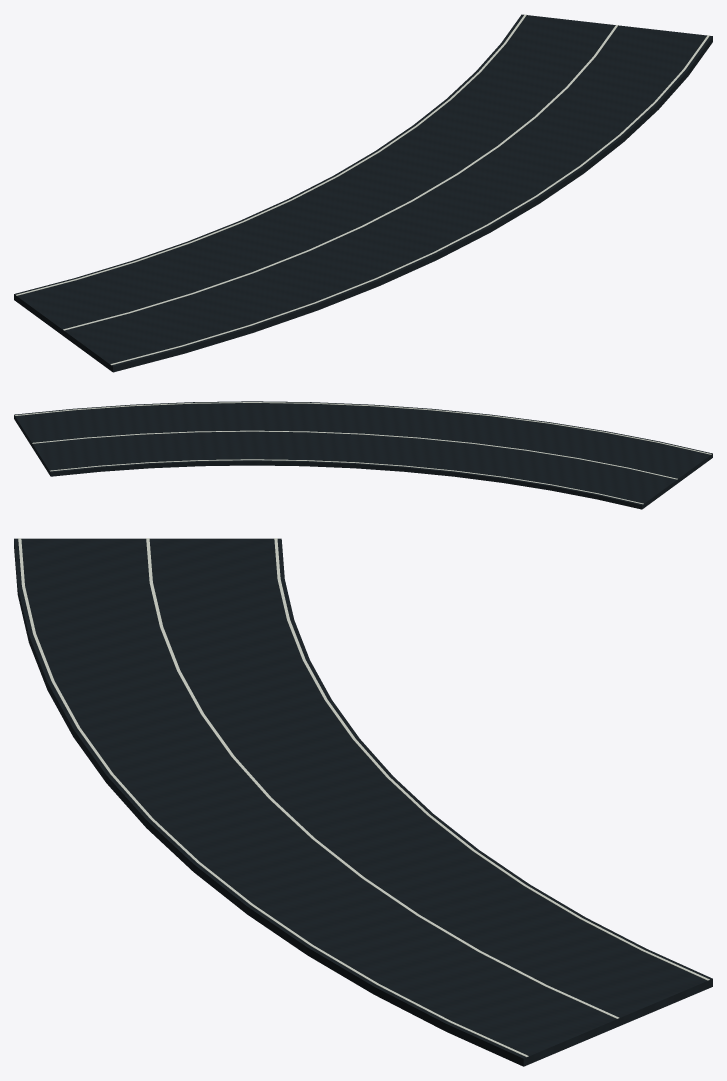
The model's file is Transit_Road_2L_Curve45_R36.glb.
3 renders of one model, top to bottom at view 1: azimuth 30°, elevation 25°; view 2: azimuth 150°, elevation 25°; view 3: azimuth 270°, elevation 25°, orthographic. The views are drawn at different scales.
Parts seen in each view (by area): view 1: Transit_Road_2L_Curve45_R36_Surface, Transit_Road_2L_Curve45_R36_MarkEdge-1, Transit_Road_2L_Curve45_R36_MarkLane1, Transit_Road_2L_Curve45_R36_MarkEdge+1; view 2: Transit_Road_2L_Curve45_R36_Surface, Transit_Road_2L_Curve45_R36_MarkEdge-1, Transit_Road_2L_Curve45_R36_MarkLane1, Transit_Road_2L_Curve45_R36_MarkEdge+1; view 3: Transit_Road_2L_Curve45_R36_Surface, Transit_Road_2L_Curve45_R36_MarkEdge-1, Transit_Road_2L_Curve45_R36_MarkLane1, Transit_Road_2L_Curve45_R36_MarkEdge+1.
Part boxes in pixels (x1,y1,x2,y2): Transit_Road_2L_Curve45_R36_Surface: (14, 14, 712, 372); Transit_Road_2L_Curve45_R36_MarkEdge-1: (110, 35, 709, 365); Transit_Road_2L_Curve45_R36_MarkLane1: (63, 25, 618, 330); Transit_Road_2L_Curve45_R36_MarkEdge+1: (16, 14, 526, 295); Transit_Road_2L_Curve45_R36_Surface: (14, 401, 712, 509); Transit_Road_2L_Curve45_R36_MarkEdge-1: (14, 402, 711, 454); Transit_Road_2L_Curve45_R36_MarkLane1: (32, 430, 677, 479); Transit_Road_2L_Curve45_R36_MarkEdge+1: (50, 459, 643, 504); Transit_Road_2L_Curve45_R36_Surface: (14, 538, 712, 1066); Transit_Road_2L_Curve45_R36_MarkEdge-1: (18, 538, 528, 1057); Transit_Road_2L_Curve45_R36_MarkLane1: (146, 538, 619, 1018); Transit_Road_2L_Curve45_R36_MarkEdge+1: (274, 538, 709, 980).
Size of the model in its own units: 27.58 by 0.212 by 15.67.
Materials: 2 (1 with a texture image).
